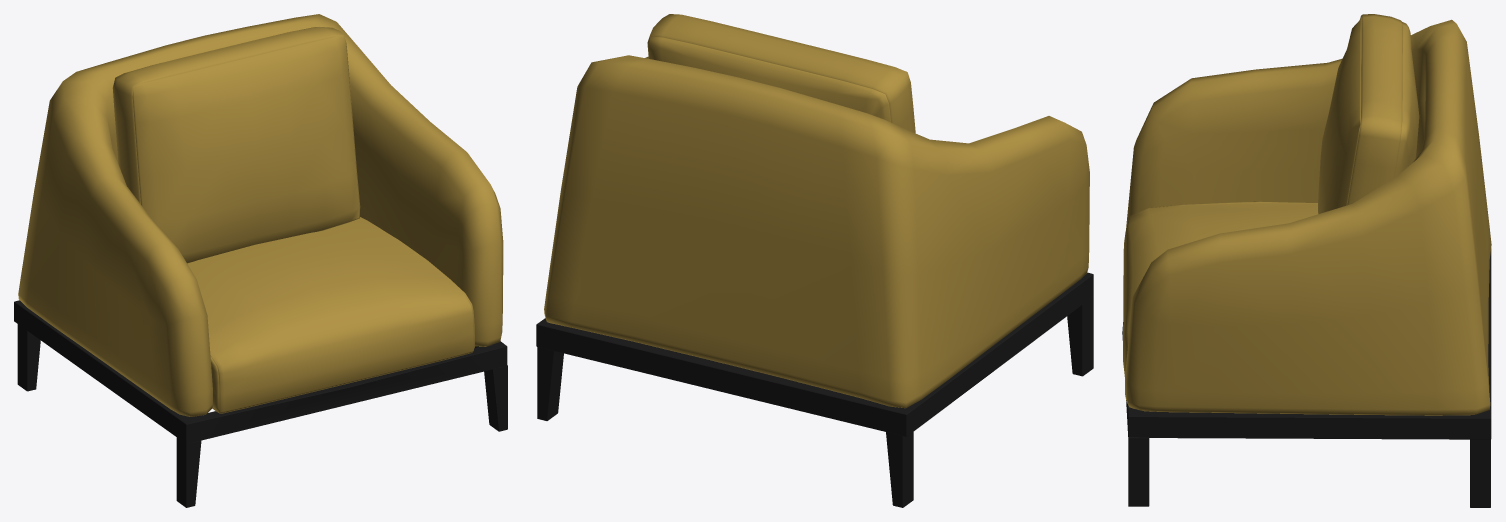
File: yizi.FBX
The picture shows the model from 3 angles, left to right: view 1: azimuth 30°, elevation 25°; view 2: azimuth 150°, elevation 25°; view 3: azimuth 270°, elevation 25°; orthographic projection. The views are drawn at different scales.
Parts seen in each view (by area): view 1: Box746346959, 组2281, obj_043, Box746346970; view 2: Box746346959, Box746346970, 组2281; view 3: Box746346959, 组2281, Box746346970, obj_043.
Boxes of the visible parts, x1=… form: Box746346959: x1=18, y1=14, x2=503, y2=416; 组2281: x1=112, y1=27, x2=360, y2=263; obj_043: x1=187, y1=217, x2=474, y2=413; Box746346970: x1=14, y1=300, x2=507, y2=507; Box746346959: x1=544, y1=55, x2=1089, y2=408; Box746346970: x1=536, y1=272, x2=1093, y2=507; 组2281: x1=647, y1=14, x2=915, y2=133; Box746346959: x1=1125, y1=19, x2=1491, y2=415; 组2281: x1=1318, y1=14, x2=1419, y2=213; Box746346970: x1=1122, y1=249, x2=1491, y2=507; obj_043: x1=1123, y1=201, x2=1318, y2=376.
Size of the model in its own units: 883 by 832 by 777.
